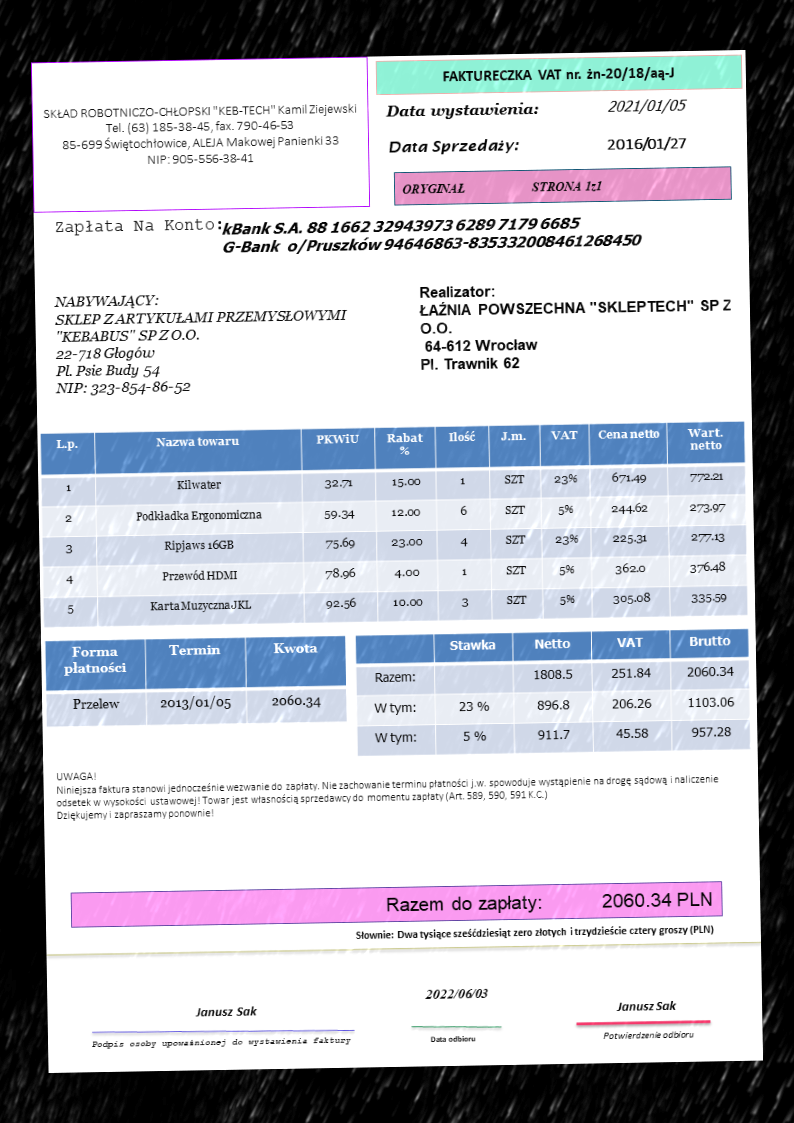Table: (38, 418, 749, 630), (354, 627, 753, 759), (44, 633, 347, 727)
TextBox: (54, 758, 722, 823), (52, 287, 352, 401), (416, 280, 738, 377), (41, 98, 361, 174), (221, 215, 645, 256), (384, 889, 714, 916), (353, 922, 718, 943), (439, 61, 677, 87), (88, 1035, 352, 1052), (400, 178, 606, 199), (384, 99, 539, 126), (53, 216, 224, 237), (384, 136, 521, 159), (606, 95, 689, 118), (605, 133, 688, 153), (191, 1002, 259, 1022), (601, 1029, 697, 1042), (422, 986, 491, 1002), (613, 999, 679, 1014), (427, 1033, 479, 1046)
